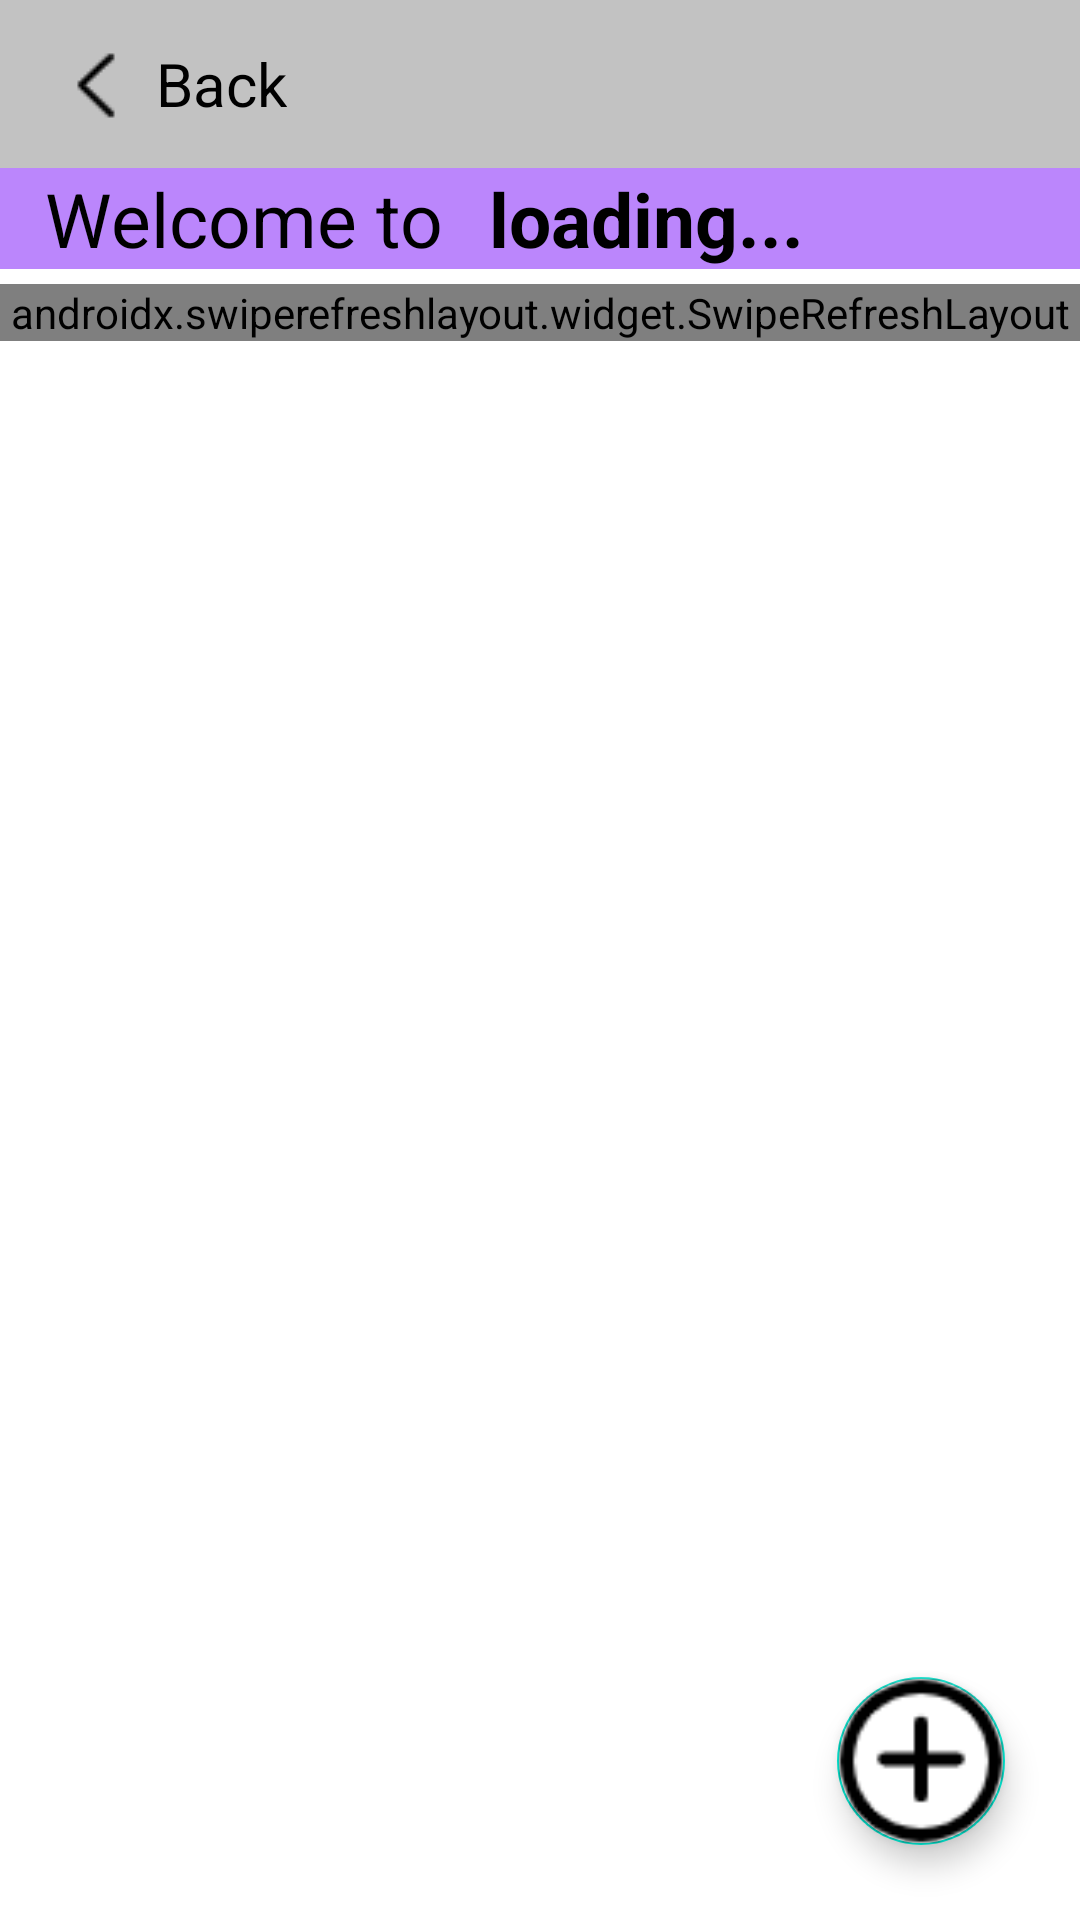

Icons on this 1080x1920 Android screen, each with the point to tap as (x=x, y=y):
addition: (x=921, y=1761)
